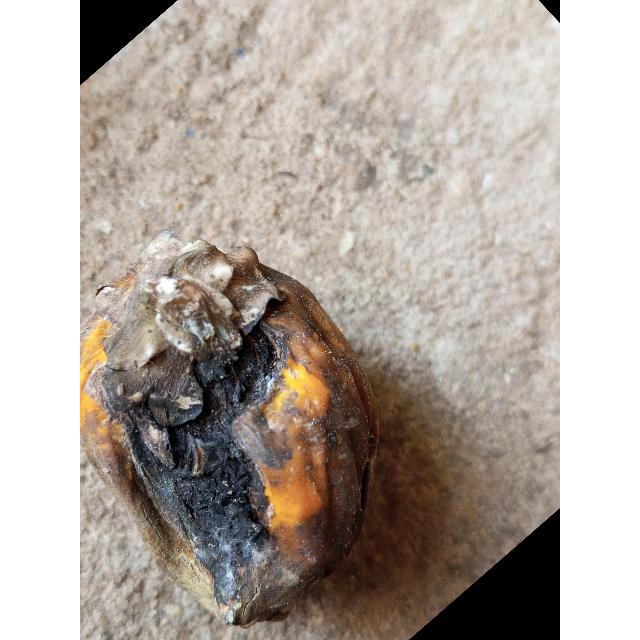damaged: (80, 230, 378, 627)
